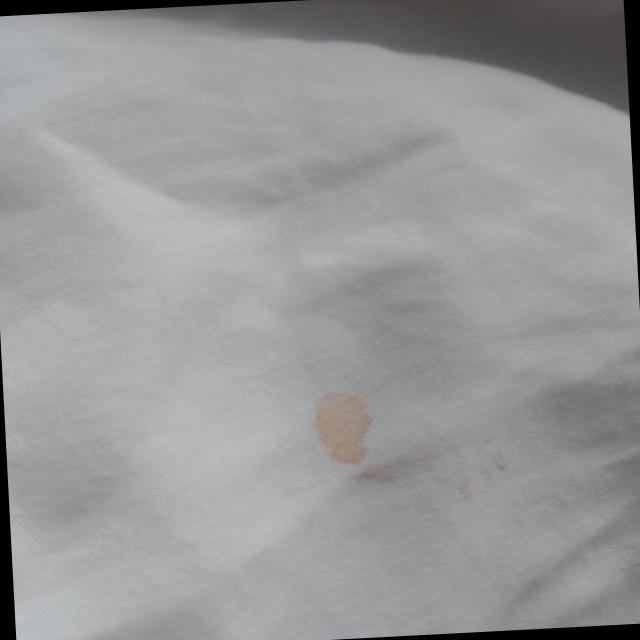stain: (307, 383, 408, 492), (432, 433, 524, 502)
